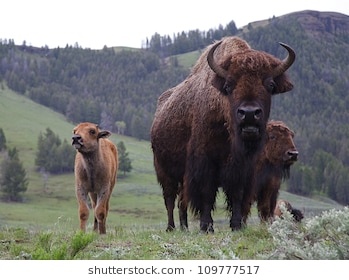yak: (145, 32, 294, 236), (68, 120, 118, 235), (251, 122, 296, 217)
